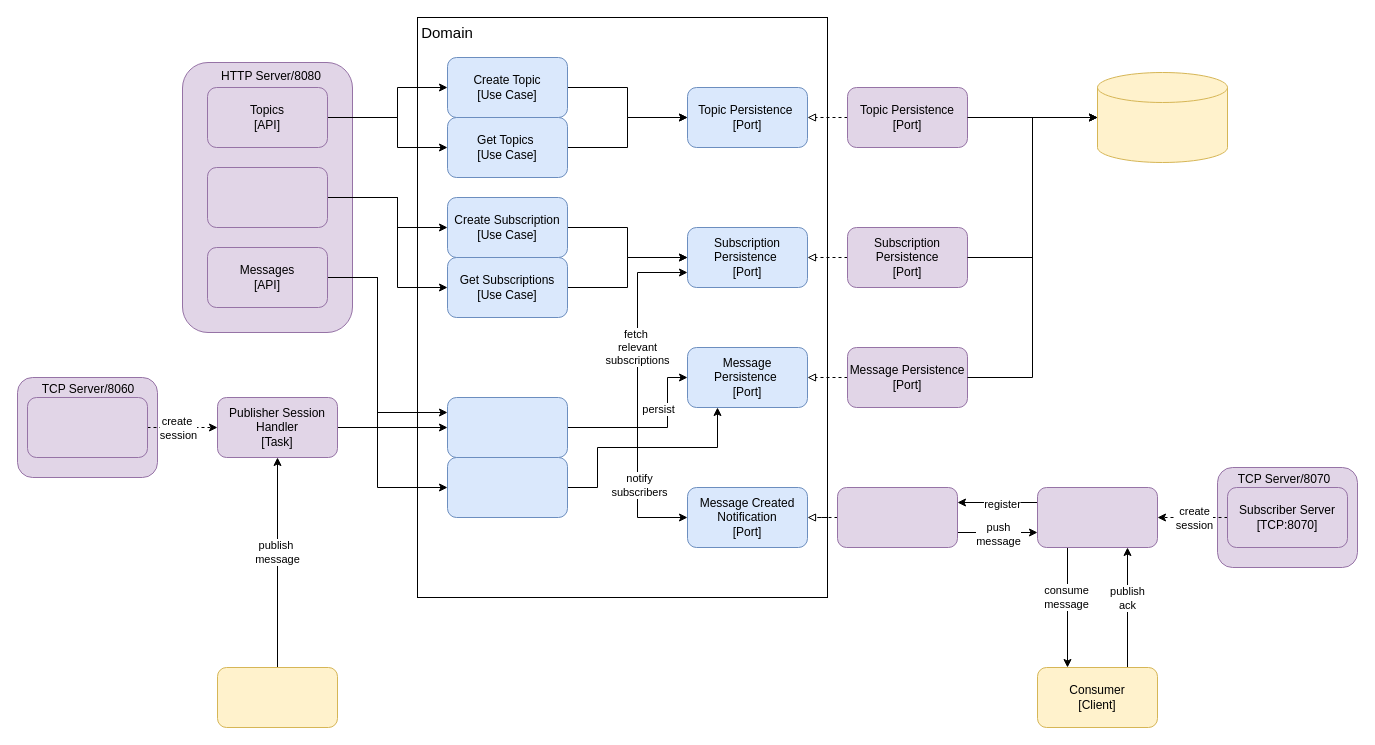
The diagram is 1375 pixels wide and 745 high, and some of its shapes have lost their labels. The centre of each missing label's shape, as x and y in pixels:
"Ack Message [Use Case]" belongs at pixel 507 487.
"Create Message [Use Case]" belongs at pixel 507 427.
"Message Created Notification [Adapter]" belongs at pixel 897 517.
"Mongo DB" belongs at pixel 1162 117.
"Publisher [Client]" belongs at pixel 277 697.
"Publisher Server [TCP:8060]" belongs at pixel 87 427.
"Subscriber Session Handler [Task]" belongs at pixel 1097 517.
"Subscriptions [API]" belongs at pixel 267 197.
